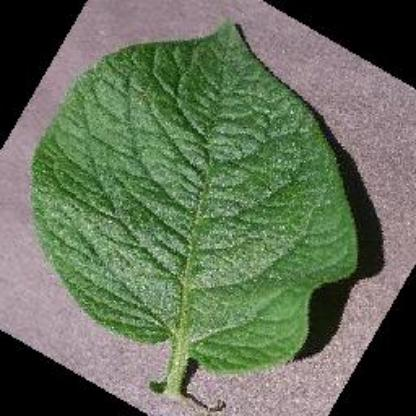Healthy-plant: (32, 16, 368, 402)
